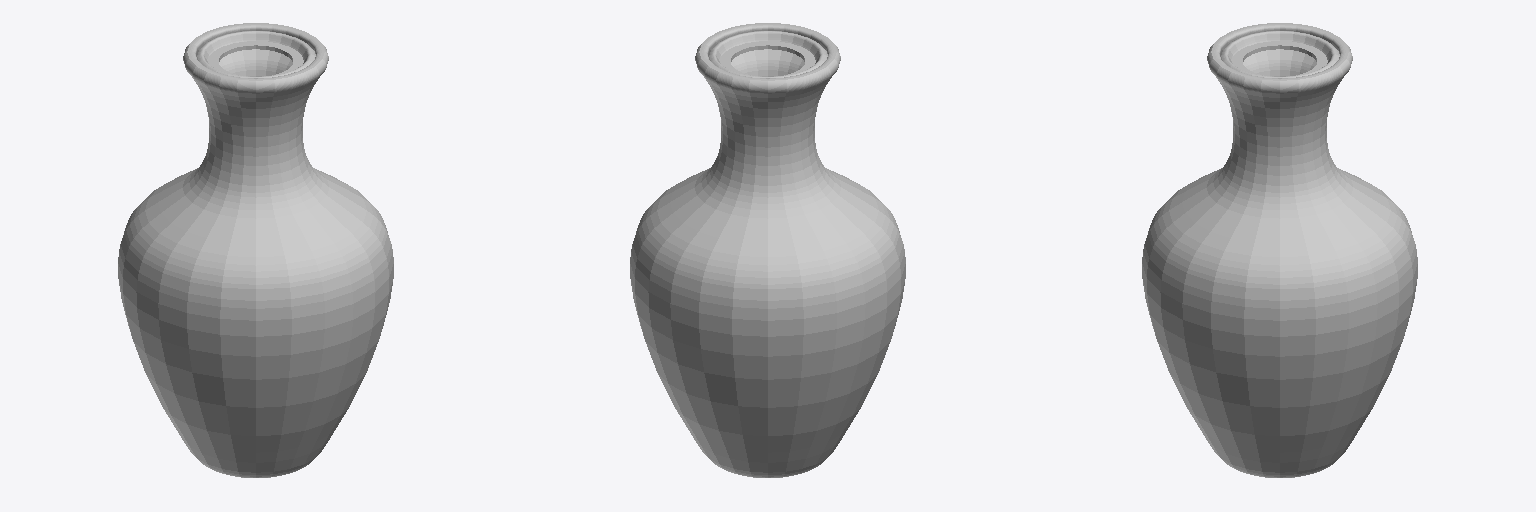
Rendered from vase.obj.
3 renders of one model, left to right at view 1: azimuth 30°, elevation 25°; view 2: azimuth 150°, elevation 25°; view 3: azimuth 270°, elevation 25°, orthographic.
Parts seen in each view (by area): view 1: Lathe_NURBS; view 2: Lathe_NURBS; view 3: Lathe_NURBS.
Part boxes in pixels (left/top/right/bottom): Lathe_NURBS: left=118, top=23, right=393, bottom=477; Lathe_NURBS: left=630, top=23, right=905, bottom=477; Lathe_NURBS: left=1142, top=23, right=1417, bottom=477.
Size of the model in its own units: 193 by 314 by 193.